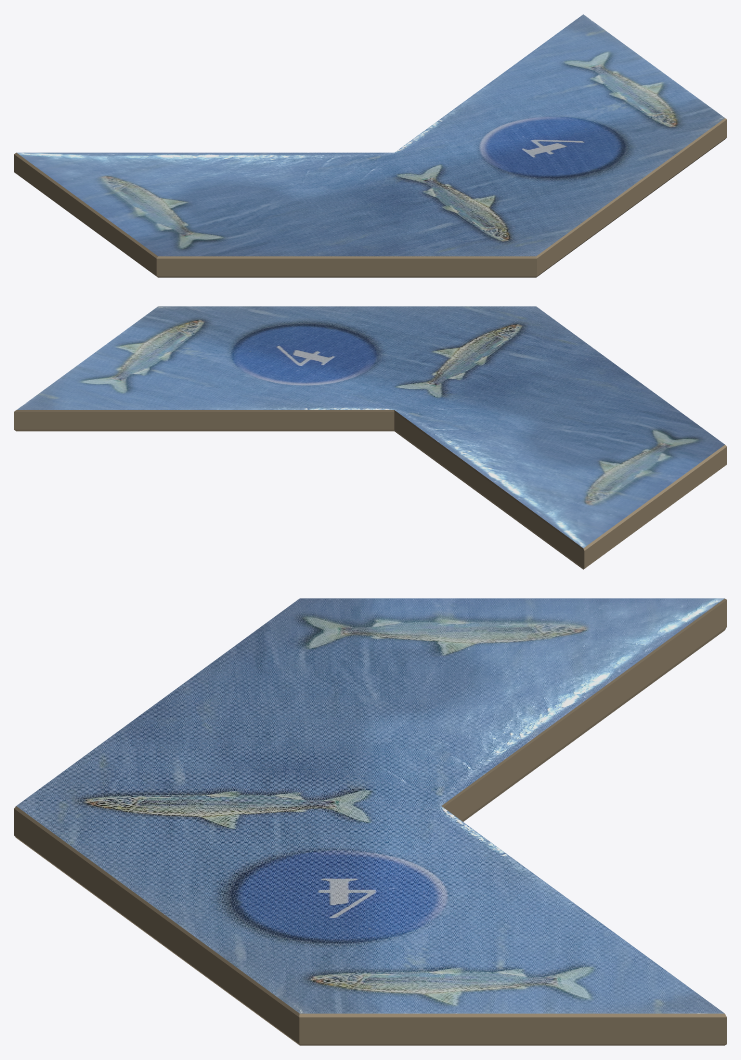
The model's file is ground-4.fbx.
3 views of the same model, one above another, from view 1: azimuth 30°, elevation 25°; view 2: azimuth 150°, elevation 25°; view 3: azimuth 270°, elevation 25° (orthographic). The views are drawn at different scales.
Parts seen in each view (by area): view 1: ground-4; view 2: ground-4; view 3: ground-4.
Boxes of the visible parts, left/top/right/bottom form: ground-4: left=14, top=14, right=726, bottom=277; ground-4: left=14, top=306, right=726, bottom=569; ground-4: left=14, top=598, right=726, bottom=1045.
Bounding box in the file's own units: 4.2 × 0.15 × 3.03.
Materials: 2 (1 with a texture image).
